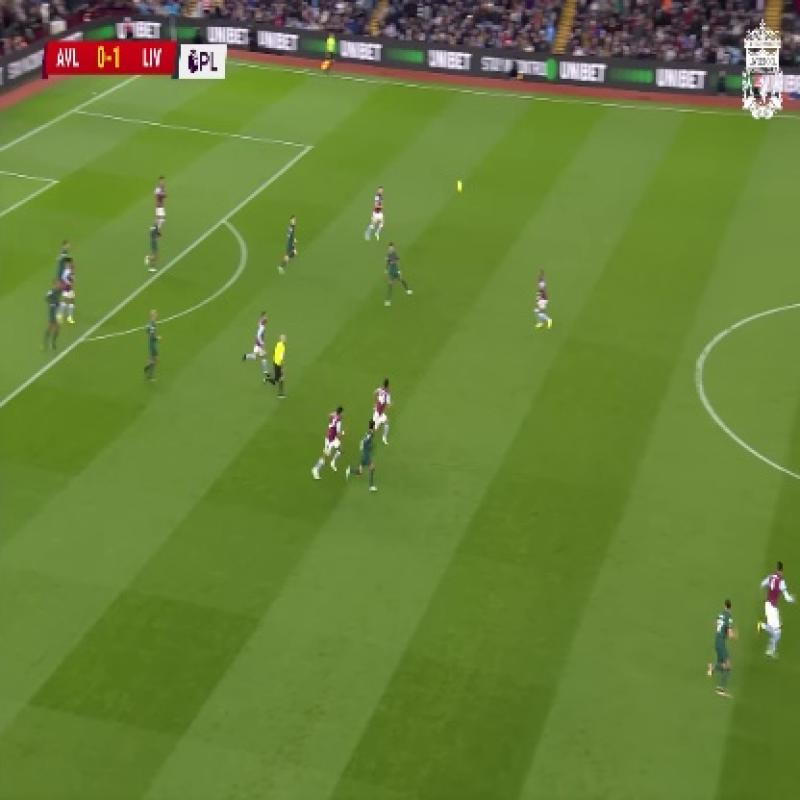10: (216, 209, 228, 228)
11: (71, 330, 85, 348)
2: (65, 102, 79, 117)
7: (48, 171, 62, 189)
9: (300, 134, 316, 158)
c: (674, 343, 722, 400)
